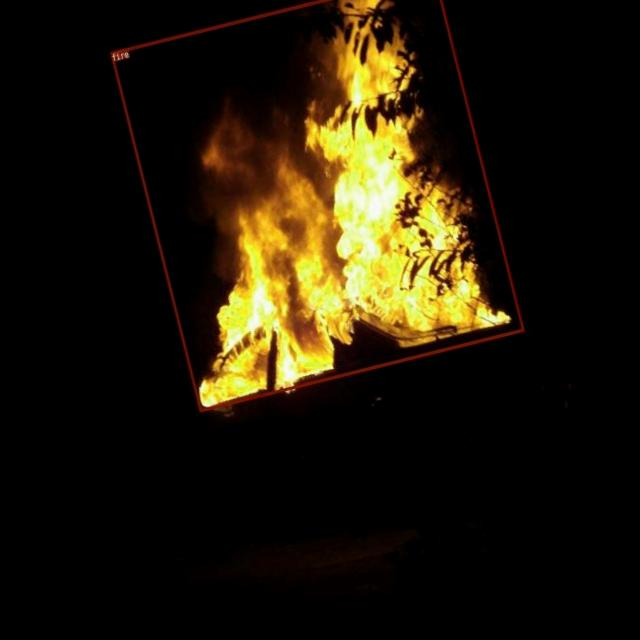fire: (109, 0, 523, 411)
